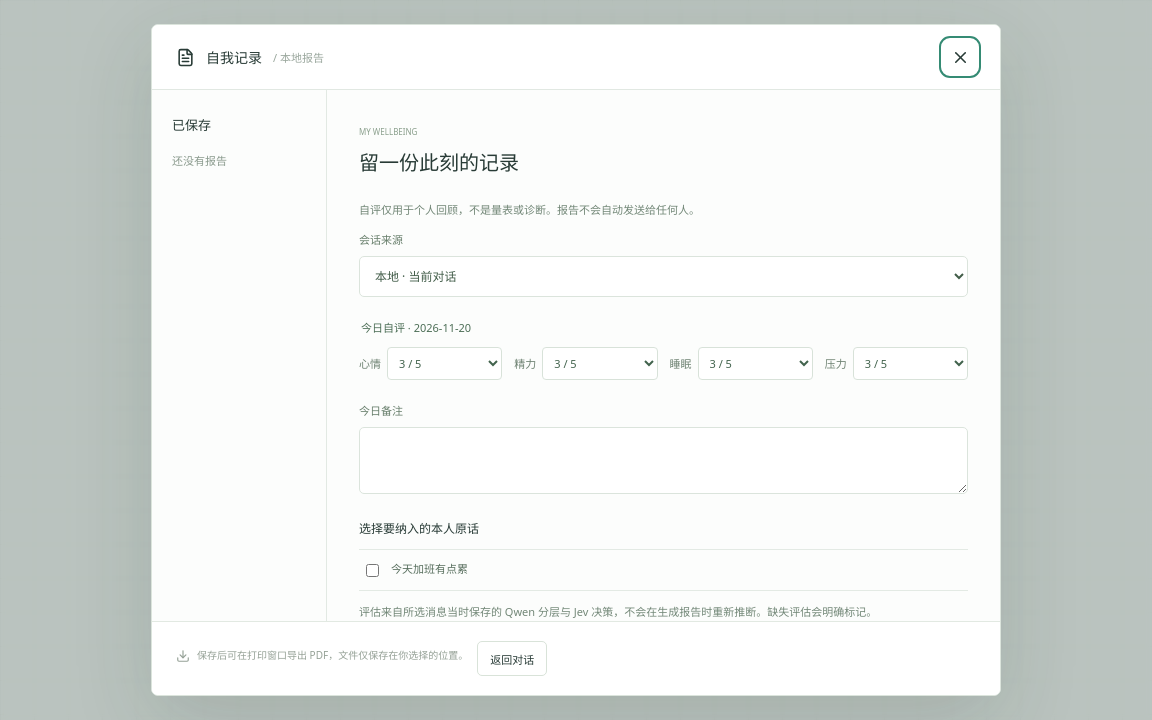
Scenario: previews saved assessment evidence without generating Qwen report wording
This screenshot has width=1152, height=720.
Click the checkbox labelled "今天加班有点累": (372, 571) left=366, top=564, right=379, bottom=577
(page scrolled)
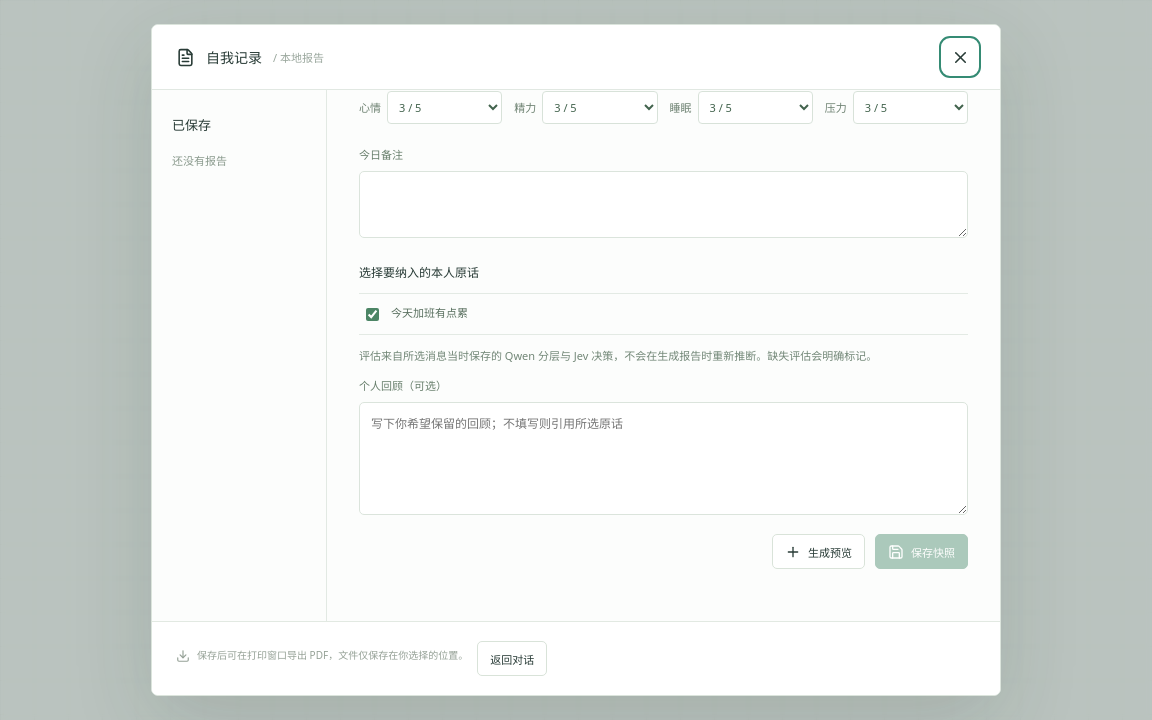
Click the button "生成预览": (818, 552) left=772, top=534, right=865, bottom=569
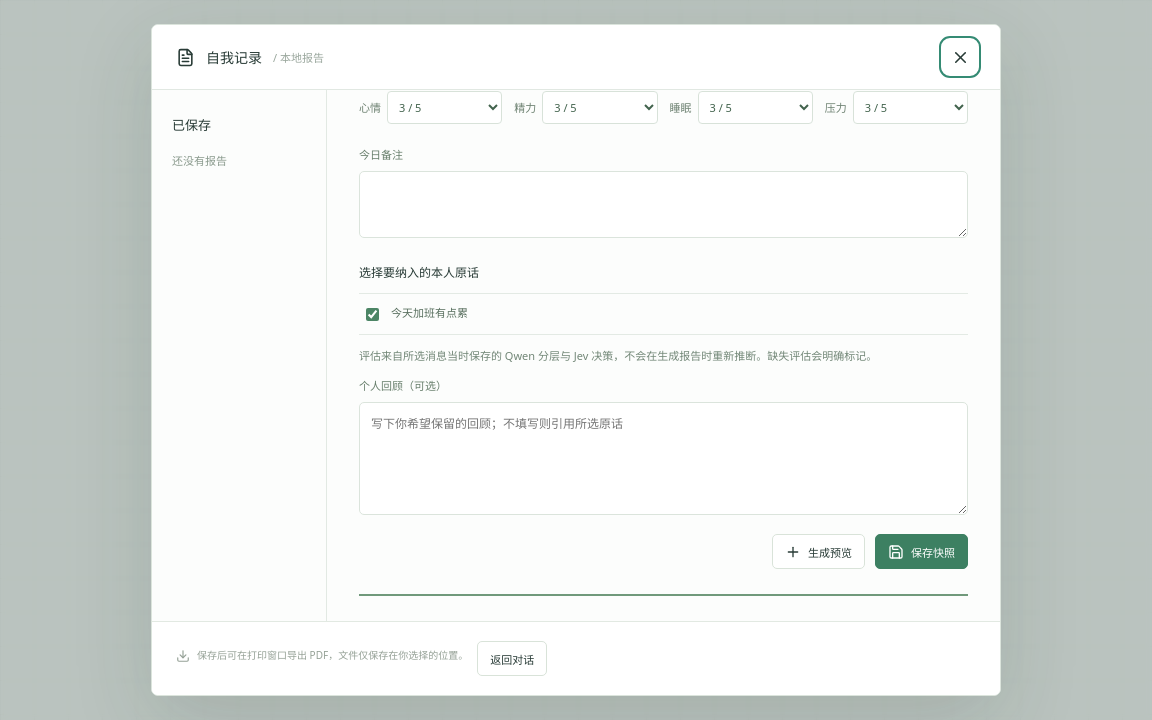
In the text box with placeholder "写下你希望保留的回顾；不填写则引用所选原话": (664, 459) left=359, top=402, right=968, bottom=515, type "我修订后的回顾"
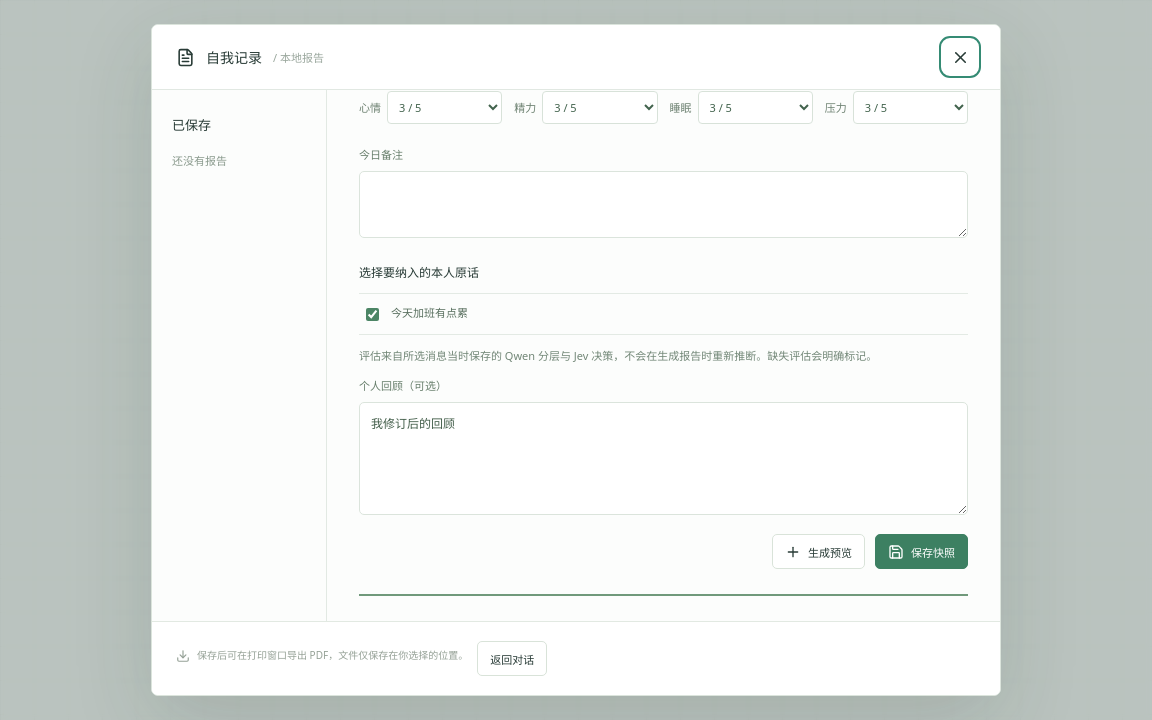
Now the button "保存快照" is enabled
Click the button "保存快照": (922, 552) left=875, top=534, right=968, bottom=569
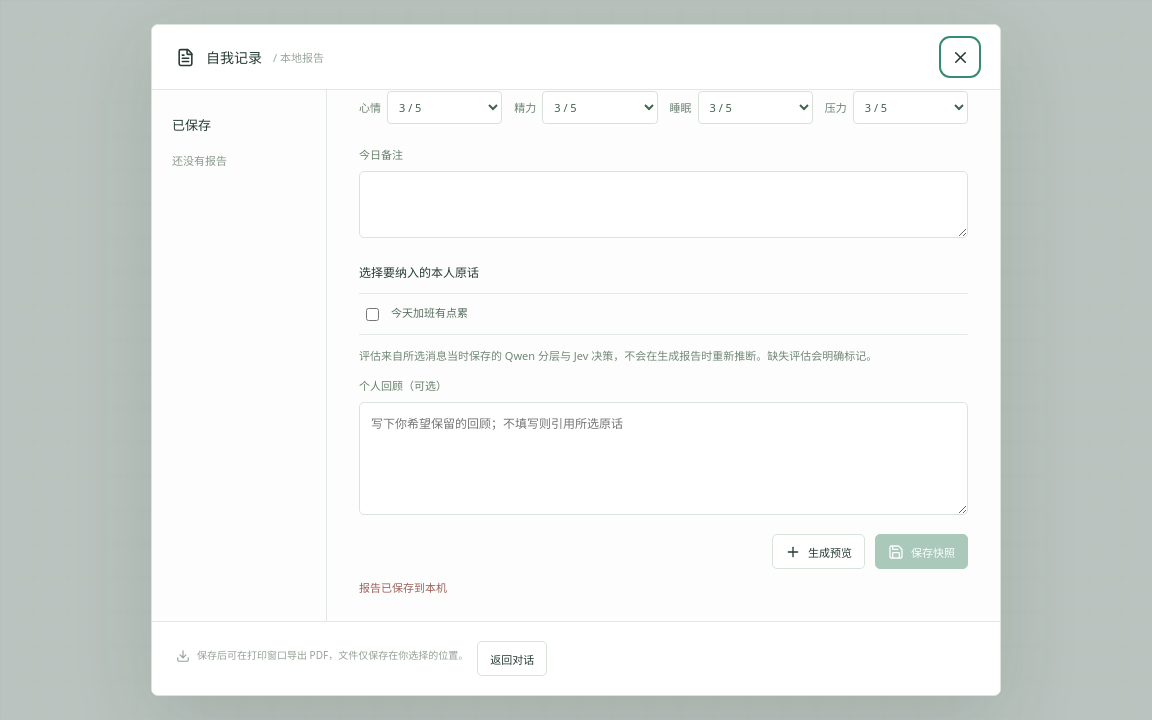
Now the text "报告已保存到本机" is shown, box left=359, top=580, right=447, bottom=595
